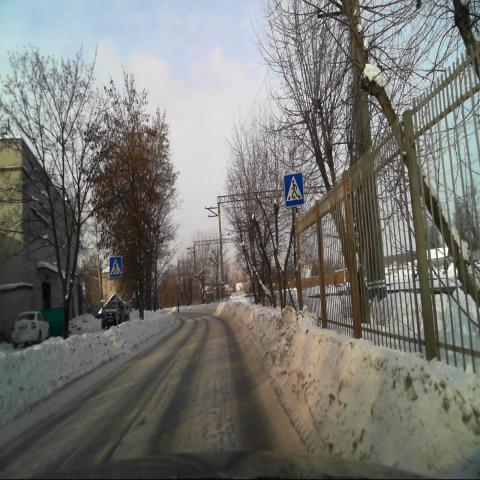5_19_1: (284, 173, 304, 207), (110, 256, 122, 277)
